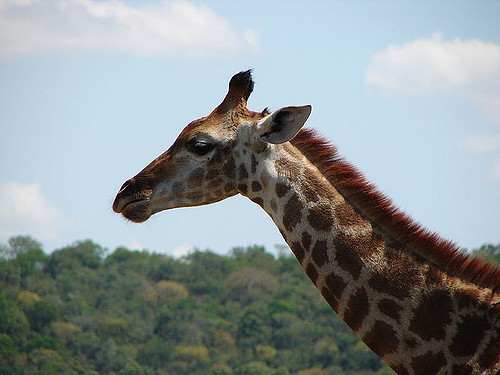giraffe: (113, 78, 481, 348)
